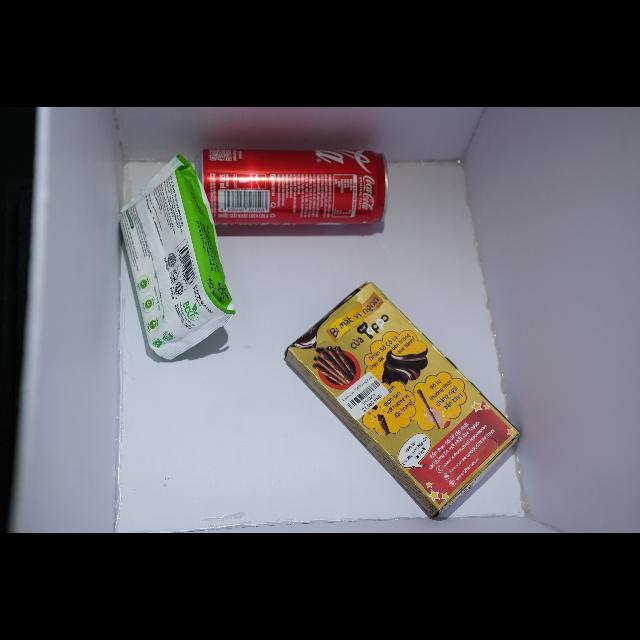banh_toppo_socola: (285, 283, 519, 517)
coca_cola: (196, 149, 387, 225)
khan_giay: (120, 156, 236, 359)
